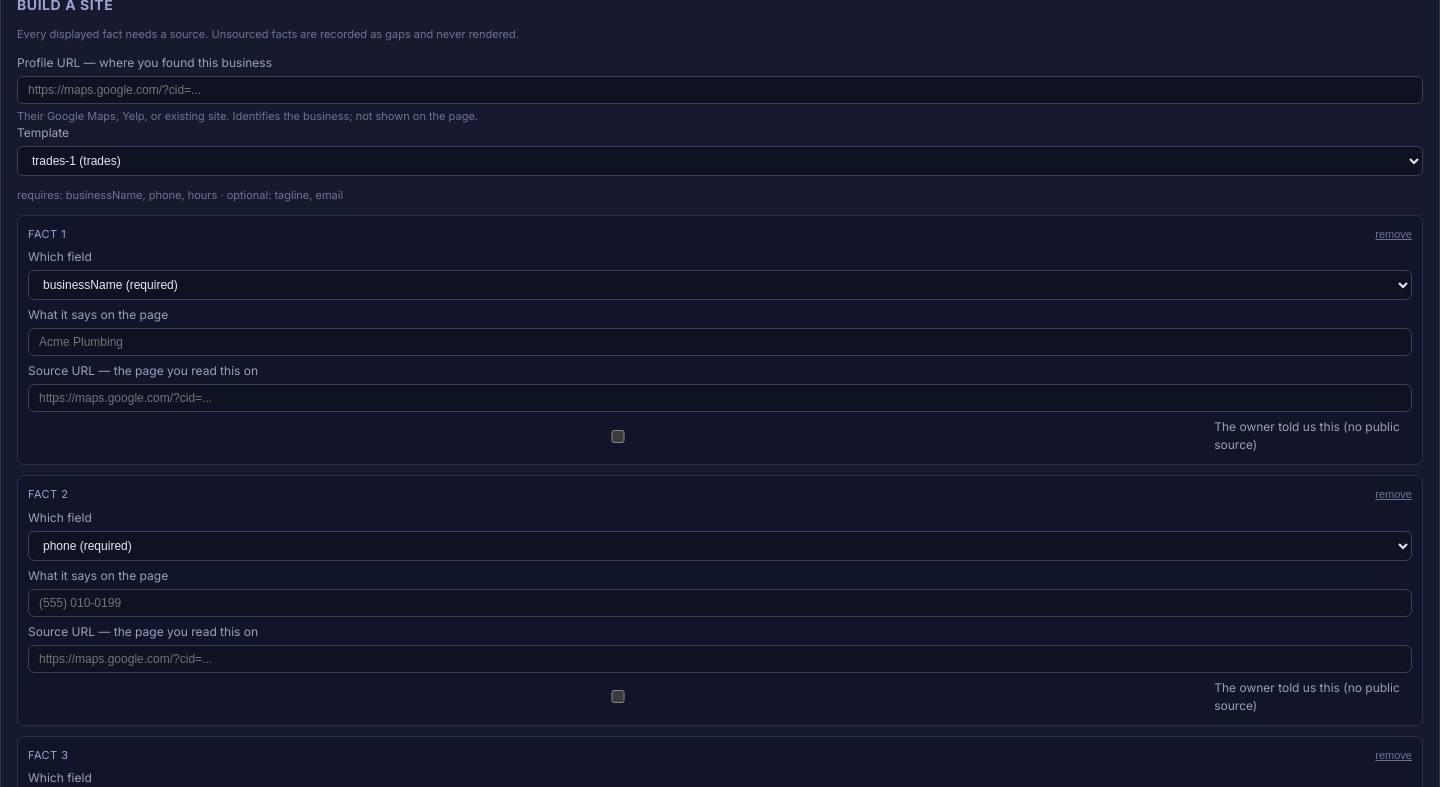
Scenario: site builder › says plainly when nothing was created
The width and height of the screenshot is (1440, 787).
Type "https://maps.example/acme" into the field with test id "profile-url" at {"x": 720, "y": 90}, box [17,76,1423,104]
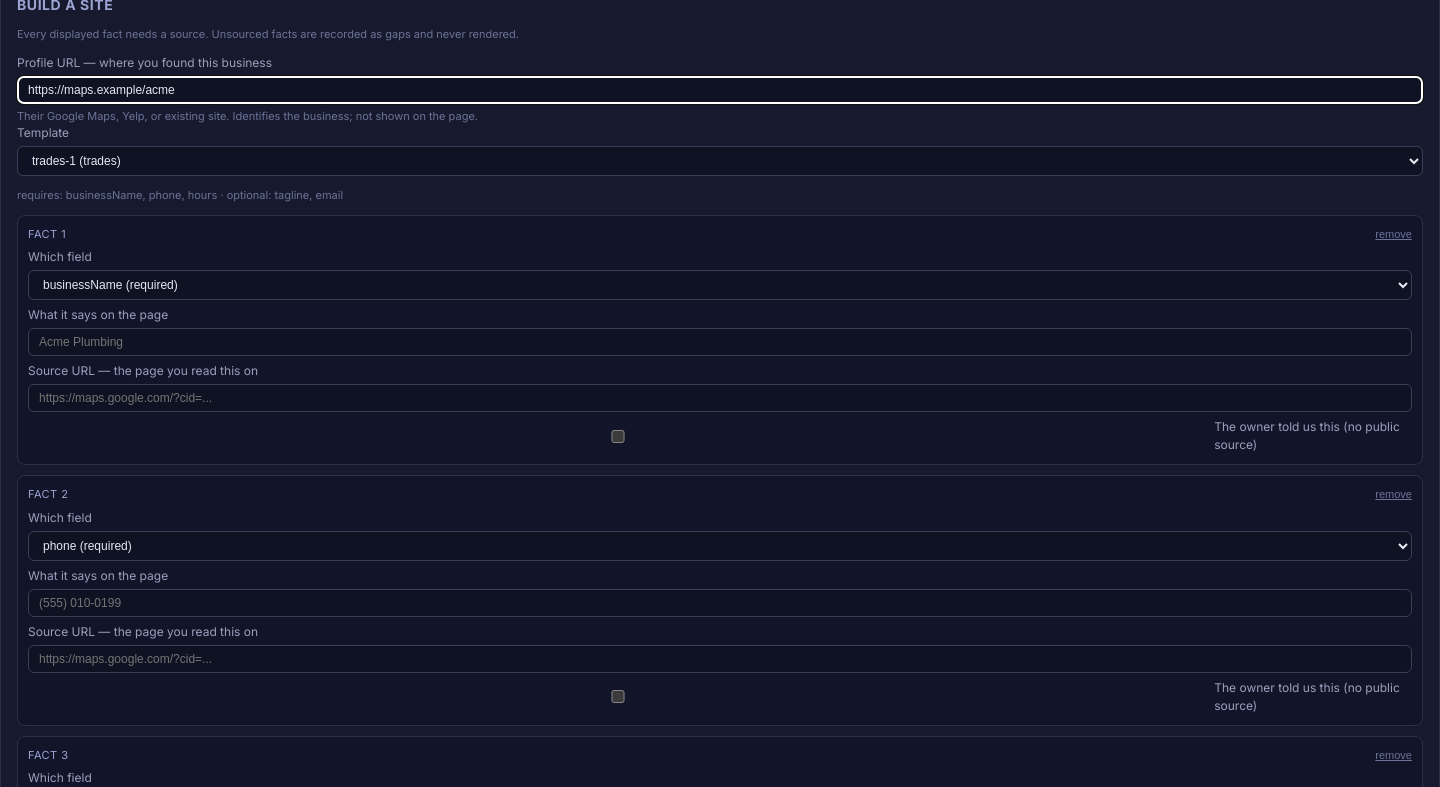
Type "Acme" into the 1st field labelled "What it says on the page" at {"x": 720, "y": 342}, box [28,328,1412,356]
(page scrolled)
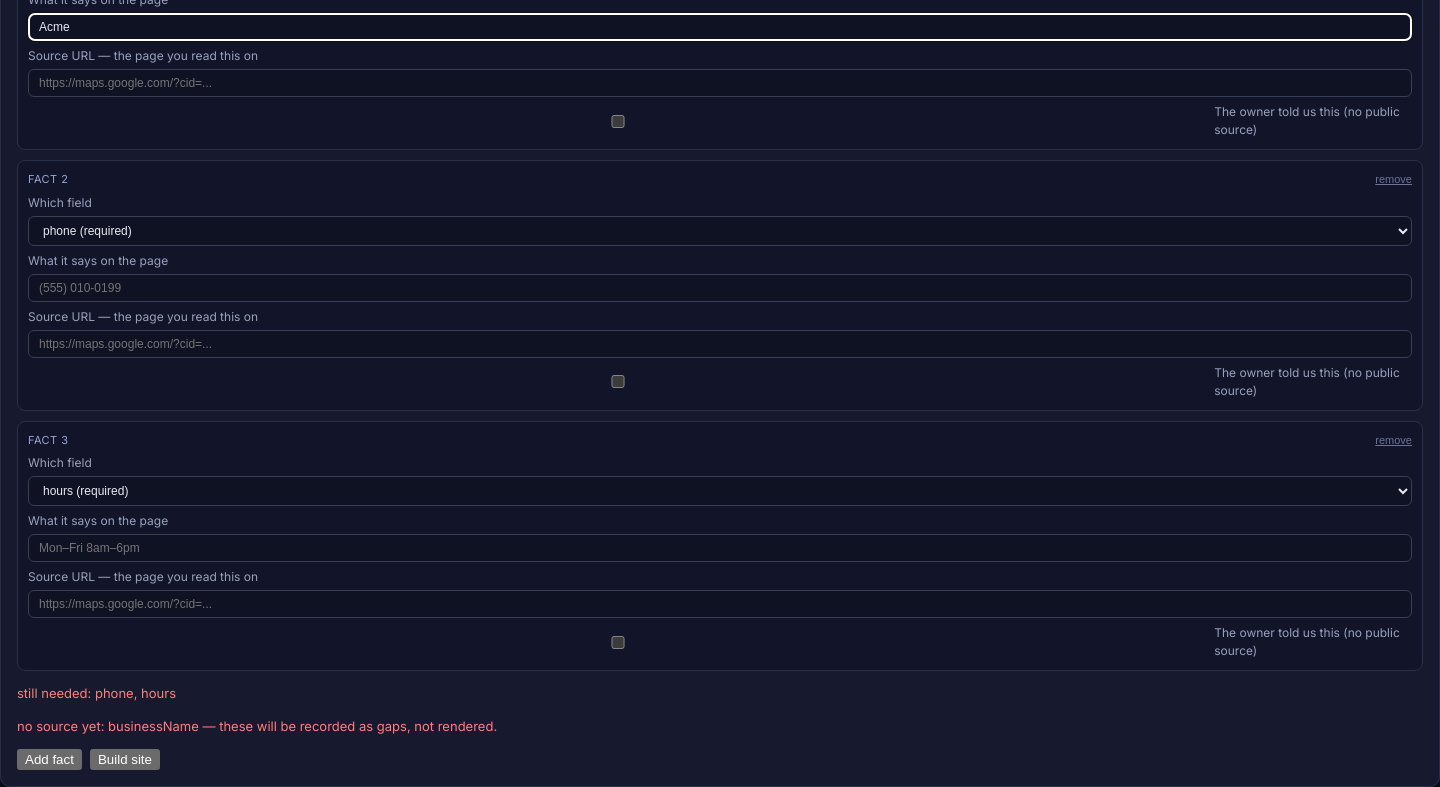
Click the button with test id "build-site" at {"x": 125, "y": 760}, box [90,749,160,770]
(page scrolled)
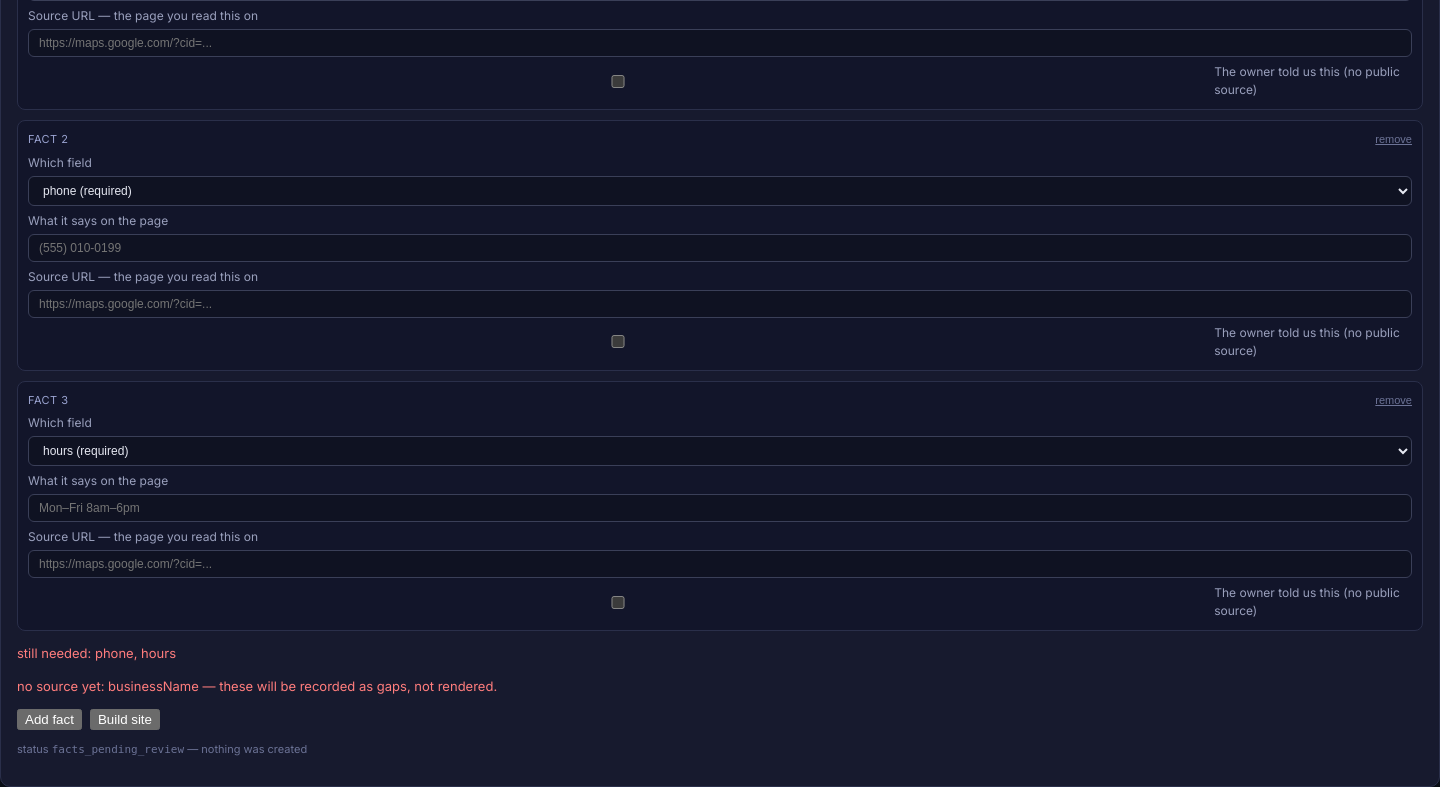
Check: the text "status facts_pending_review — nothing was created" is shown, box [17,742,307,756]
